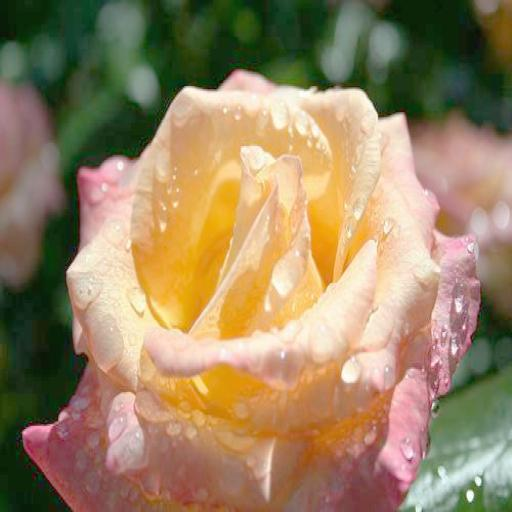rose: (73, 63, 480, 512)
